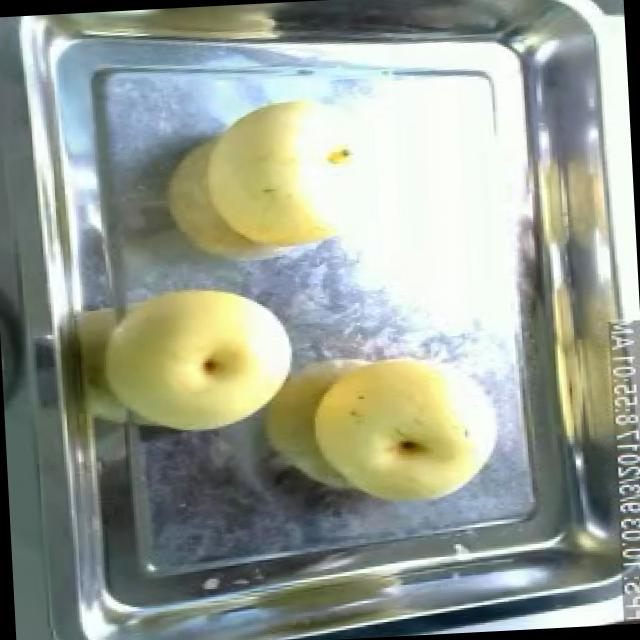Fruit: (92, 268, 304, 448), (299, 337, 504, 523), (152, 86, 352, 274)
